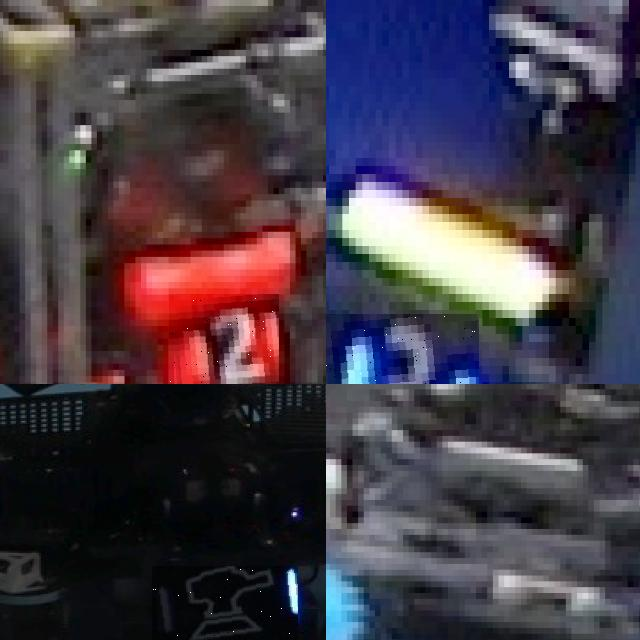B3: (326, 314, 478, 384)
Bs: (151, 566, 298, 640)
R2: (168, 294, 279, 384)
